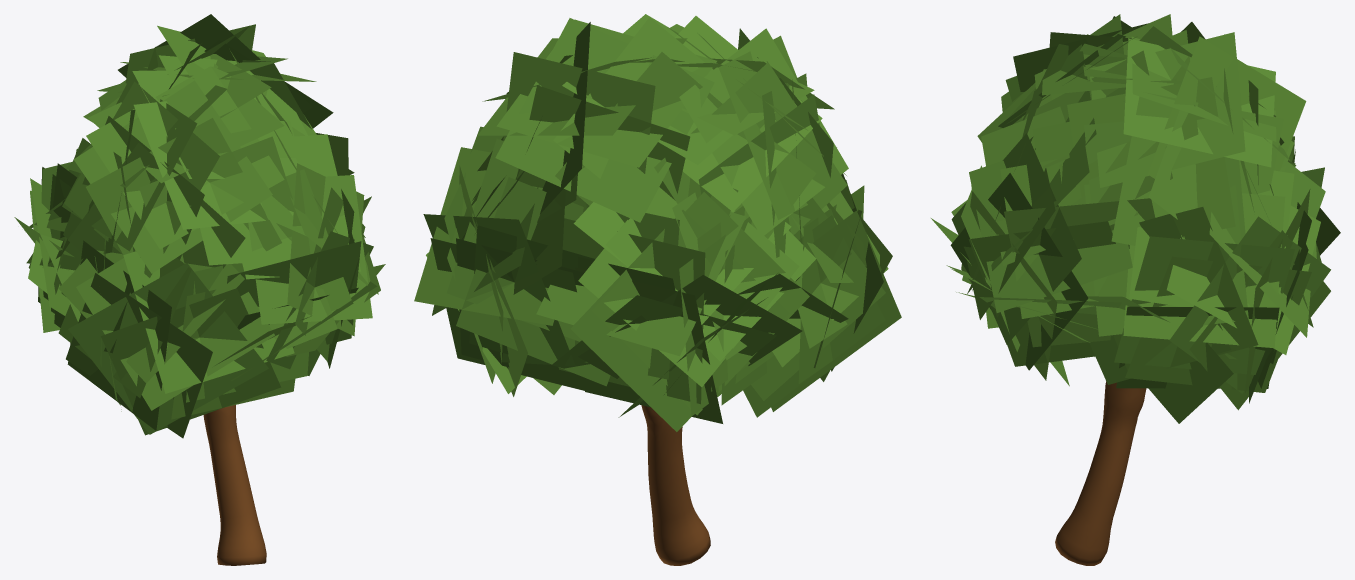
The model's file is TDS-Tree3withFoliage.fbx.
3 renders of one model, left to right at view 1: azimuth 30°, elevation 25°; view 2: azimuth 150°, elevation 25°; view 3: azimuth 270°, elevation 25°, orthographic. The views are drawn at different scales.
Parts seen in each view (by area): view 1: Uncolored_Tree.001; view 2: Uncolored_Tree.001; view 3: Uncolored_Tree.001.
Boxes of the visible parts, x1=… form: Uncolored_Tree.001: x1=14, y1=14, x2=385, y2=565; Uncolored_Tree.001: x1=414, y1=14, x2=901, y2=565; Uncolored_Tree.001: x1=931, y1=14, x2=1340, y2=565.
Size of the model in its own units: 484 by 707 by 492.
